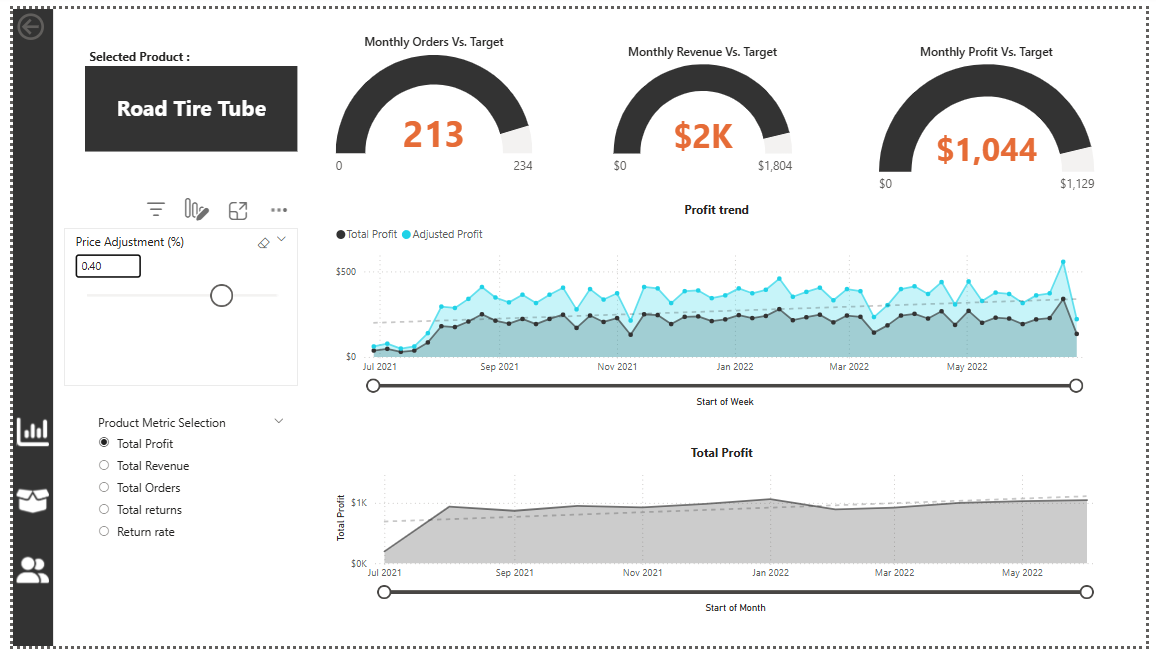

The page's visual inventory and layout, read from the dashboard file:
{"tool":"powerbi","page":{"name":"Product Detail","canvas":[1280,720],"ordinal":2},"visuals":[{"type":"shape","box":[0,0,45.3,720.6],"z":0},{"type":"actionButton","box":[0.6,453.9,44.7,48],"z":0,"group":"g1"},{"type":"gauge","title":"Monthly Orders Vs. Target","fields":{"MaxValue":["Measures table (non_dax).Order Target"],"Y":["Measures table (non_dax).Total Orders"]},"box":[359.1,26.5,232.4,170.1],"z":1000},{"type":"actionButton","box":[0.6,531.8,44.7,48],"z":1000,"group":"g1"},{"type":"gauge","title":"Monthly Revenue Vs. Target","fields":{"MaxValue":["Measures table (non_dax).Revenue Target"],"Y":["Measures table (non_dax).Total Revenue"]},"box":[661.4,39.7,236.2,156.9],"z":2000},{"type":"actionButton","box":[0.6,609.6,44.7,48],"z":2000,"group":"g1"},{"type":"gauge","title":"Monthly Profit Vs. Target","fields":{"MaxValue":["Measures table (non_dax).Profit Target"],"Y":["Measures table (non_dax).Total Profit"]},"box":[969.5,39.7,260.8,177.6],"z":3000},{"type":"lineChart","title":"Profit trend","fields":{"Category":["Calendar Lookup.DATE hierarchy.Start of Year","Calendar Lookup.DATE hierarchy.Start of Month","Calendar Lookup.DATE hierarchy.Start of Week","Calendar Lookup.DATE hierarchy.Date"],"Y":["Measures table (non_dax).Total Profit","Measures table (non_dax).Adjusted Profit"]},"box":[359.5,217,871.3,236.9],"z":4000},{"type":"areaChart","fields":{"Category":["Calendar Lookup.DATE hierarchy.Start of Year","Calendar Lookup.DATE hierarchy.Start of Month","Calendar Lookup.DATE hierarchy.Start of Week","Calendar Lookup.DATE hierarchy.Date"],"Y":["Measures table (non_dax).Return rate"]},"box":[359.5,492,882.9,195.5],"z":5000},{"type":"actionButton","box":[0,0,100,40],"z":6000},{"type":"card","fields":{"Values":["Min(Product Lookup.ProductName)"]},"box":[80.6,64.9,240,96.4],"z":7000},{"type":"textbox","box":[81.3,39.7,141.7,37.8],"z":8000},{"type":"group","id":"g1","title":"Navigation buttons","box":[0.6,453.9,44.7,203.7],"z":9000},{"type":"slicer","fields":{"Values":["Price Adjustment (%).Price Adjustment (%)"]},"box":[58,246.8,263.4,178.9],"z":9001},{"type":"slicer","fields":{"Values":["Product Metric Selection.Product Metric Selection"]},"box":[82.8,452.2,235.2,205.4],"z":9002}]}

Visuals, with their boxes on the page's 1280x720 design canvas (x1, y1, x2, y2). These are canvas units, not pixel positions in the 1156x654 screenshot, which may show the page scaled, cropped or inside an application window:
shape: (left=0, top=0, right=45, bottom=721)
actionButton: (left=1, top=454, right=45, bottom=502)
"Monthly Orders Vs. Target" gauge: (left=359, top=26, right=592, bottom=197)
actionButton: (left=1, top=532, right=45, bottom=580)
"Monthly Revenue Vs. Target" gauge: (left=661, top=40, right=898, bottom=197)
actionButton: (left=1, top=610, right=45, bottom=658)
"Monthly Profit Vs. Target" gauge: (left=970, top=40, right=1230, bottom=217)
"Profit trend" lineChart: (left=360, top=217, right=1231, bottom=454)
areaChart - Calendar Lookup.DATE hierarchy.Start of Year x Calendar Lookup.DATE hierarchy.Start of Month: (left=360, top=492, right=1242, bottom=688)
actionButton: (left=0, top=0, right=100, bottom=40)
card - Min(Product Lookup.ProductName): (left=81, top=65, right=321, bottom=161)
textbox: (left=81, top=40, right=223, bottom=78)
"Navigation buttons" group: (left=1, top=454, right=45, bottom=658)
slicer - Price Adjustment (%).Price Adjustment (%): (left=58, top=247, right=321, bottom=426)
slicer - Product Metric Selection.Product Metric Selection: (left=83, top=452, right=318, bottom=658)
